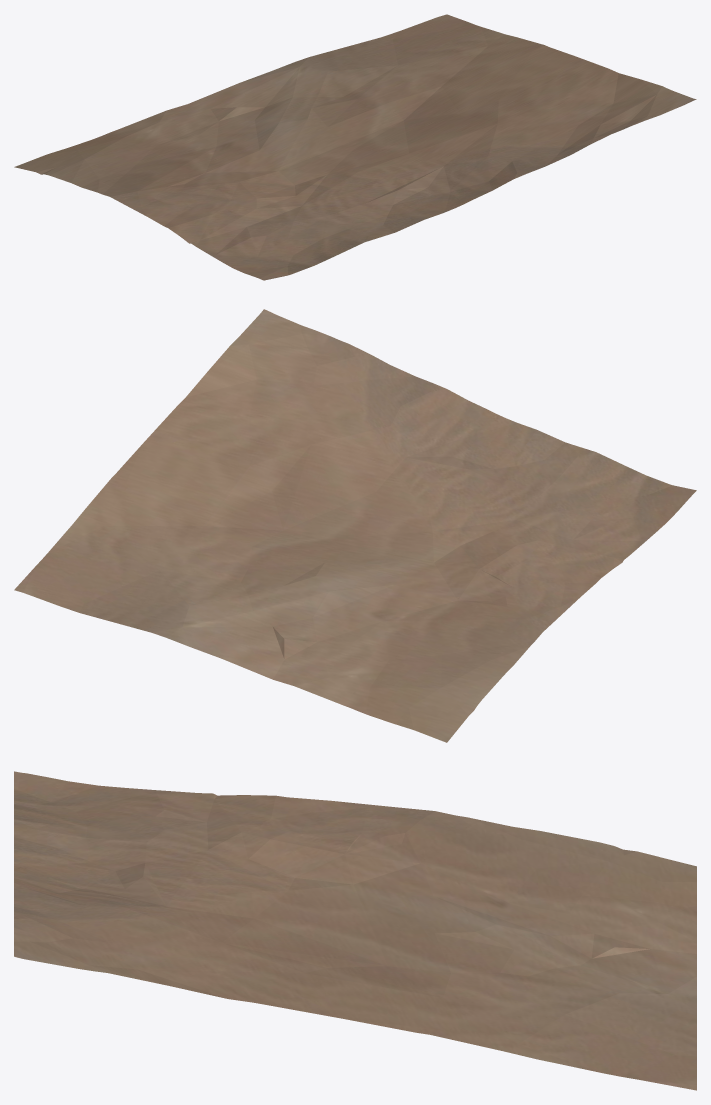
3 renders of one model, top to bottom at view 1: azimuth 30°, elevation 25°; view 2: azimuth 150°, elevation 25°; view 3: azimuth 270°, elevation 25°, orthographic. The views are drawn at different scales.
Bounding box in the file's own units: 1.04 × 0.3346 × 1.04.
Materials: 2 (2 with a texture image).
